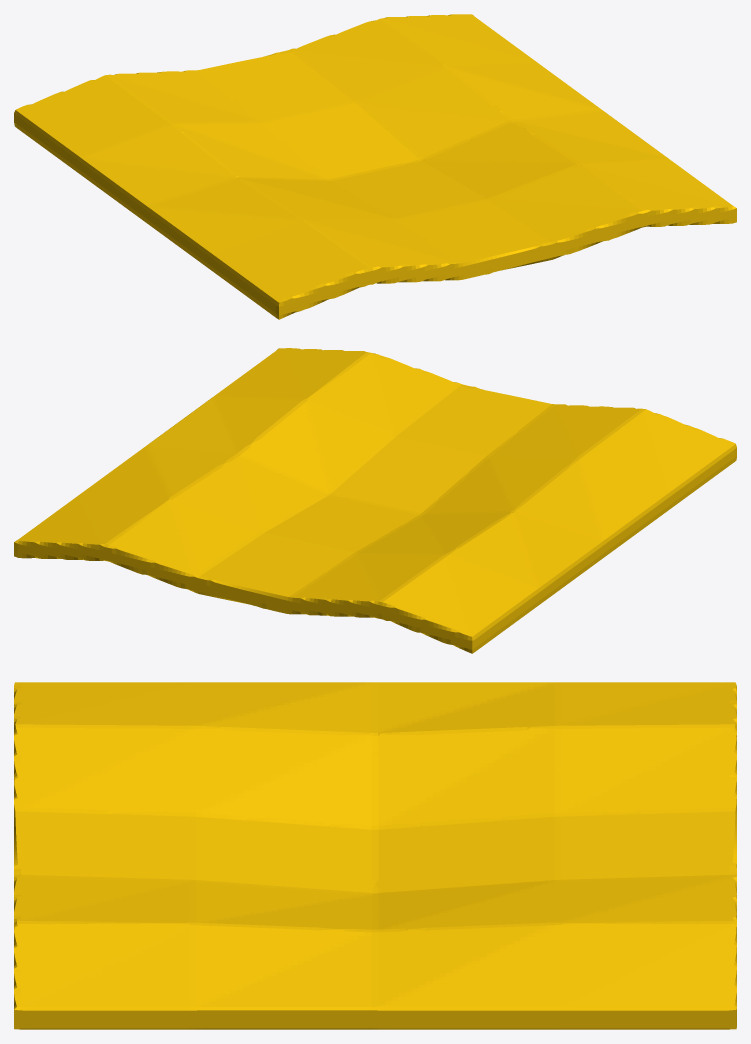
Rendered from americanCheese.glb.
3 renders of one model, top to bottom at view 1: azimuth 30°, elevation 25°; view 2: azimuth 150°, elevation 25°; view 3: azimuth 270°, elevation 25°, orthographic. The views are drawn at different scales.
Parts seen in each view (by area): view 1: buffer_0_mesh_0_prim5.001; view 2: buffer_0_mesh_0_prim5.001; view 3: buffer_0_mesh_0_prim5.001.
Boxes of the visible parts, bbox=[...] form: buffer_0_mesh_0_prim5.001: bbox=[14, 14, 736, 319]; buffer_0_mesh_0_prim5.001: bbox=[14, 348, 736, 653]; buffer_0_mesh_0_prim5.001: bbox=[14, 682, 736, 1029].
Bounding box in the file's own units: 10.7 × 1.12 × 10.7.
